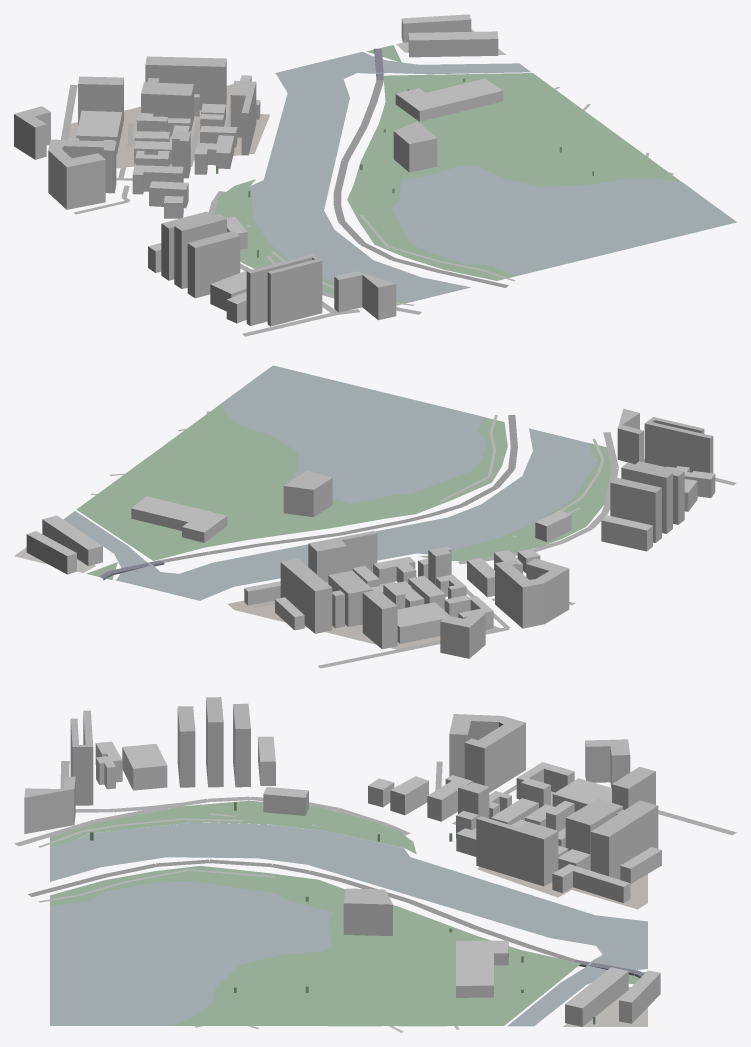
The picture shows the model from 3 angles, top to bottom: view 1: azimuth 30°, elevation 25°; view 2: azimuth 150°, elevation 25°; view 3: azimuth 270°, elevation 25°; orthographic projection. The views are drawn at different scales.
Size of the model in its own units: 538 by 62.95 by 604.
